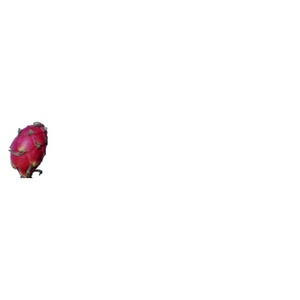pitaia: (10, 123, 48, 181)
